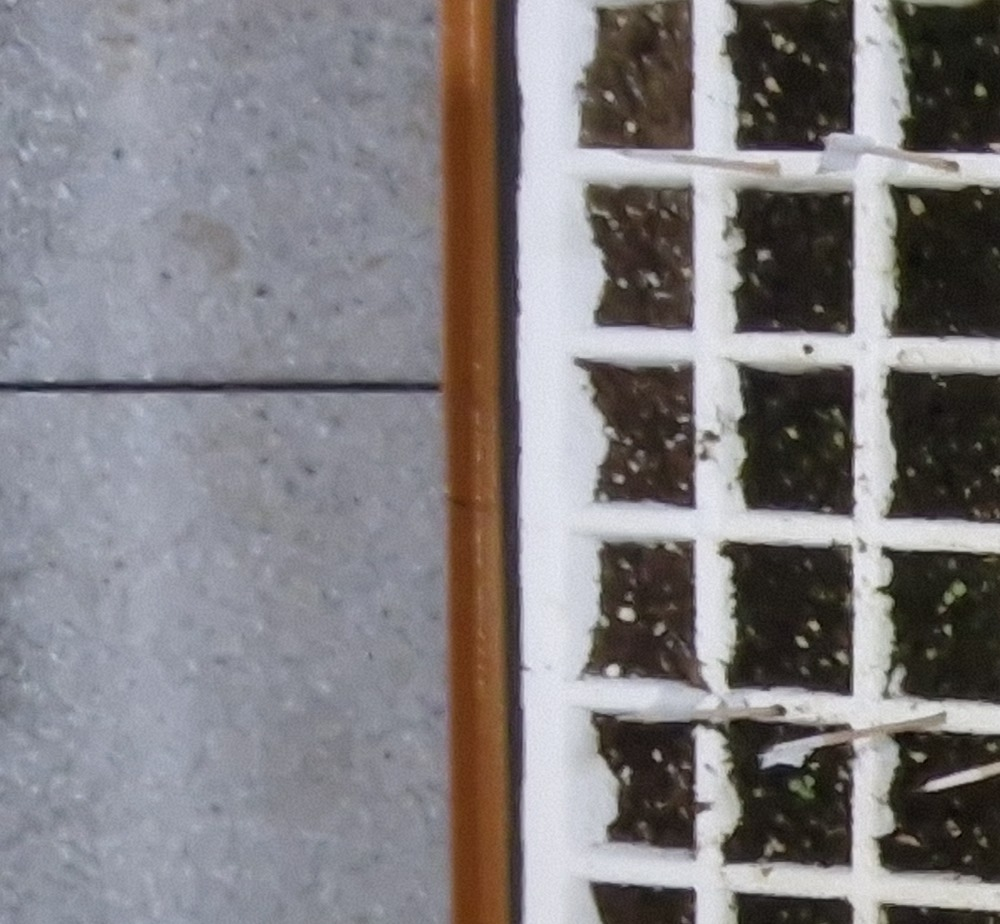Folha: (943, 589, 956, 605), (952, 581, 966, 595), (788, 780, 803, 791), (805, 775, 816, 786), (801, 791, 815, 798)
Germinacao: (787, 774, 816, 798), (943, 578, 967, 605)
